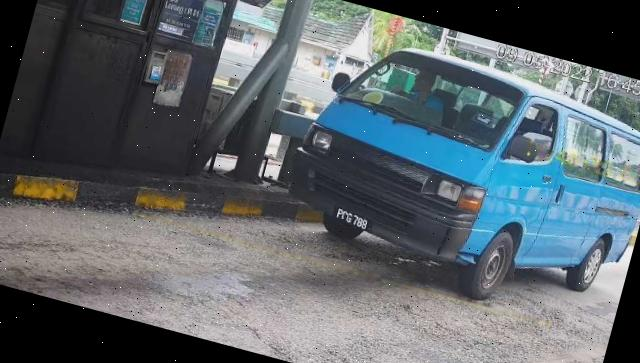License_Plate: (331, 204, 377, 235)
van: (272, 22, 640, 334)
